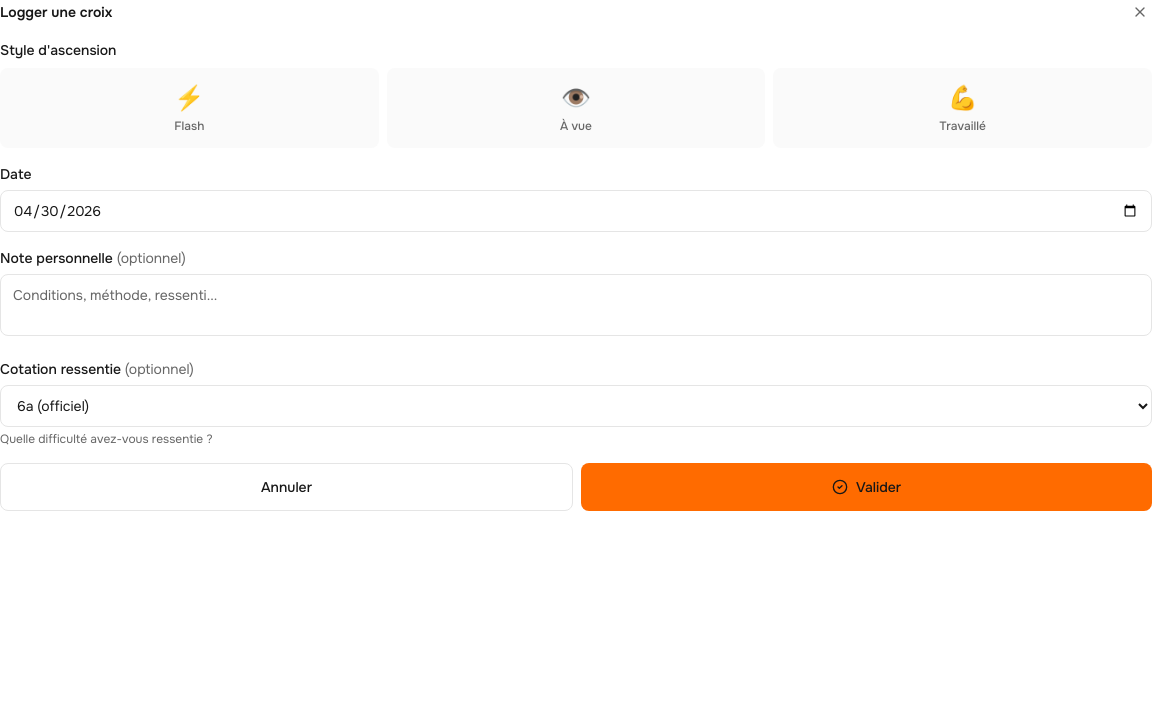
Scenario: TickForm › eco gate (Story 14e.1) › cancelling the eco dialog leaves the form intact
This screenshot has width=1152, height=720.
Click the text "Flash" at (189, 126), box [174, 118, 204, 134]
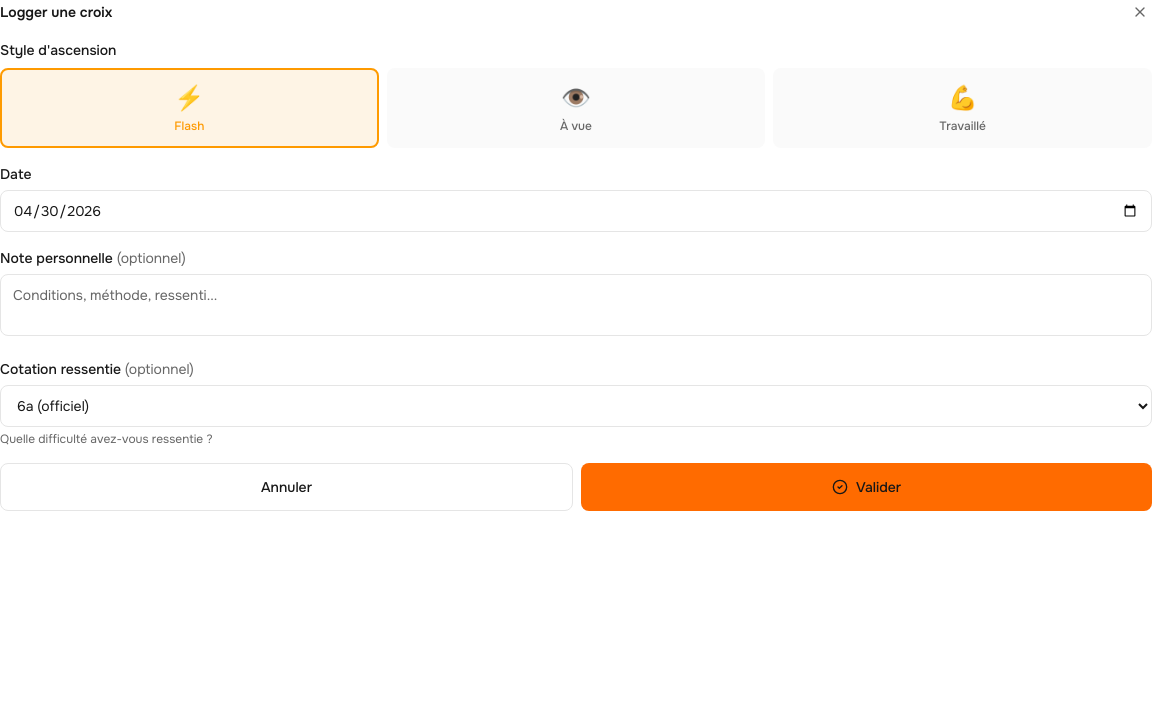
Click the button "Valider" at (866, 487), box [581, 463, 1151, 511]
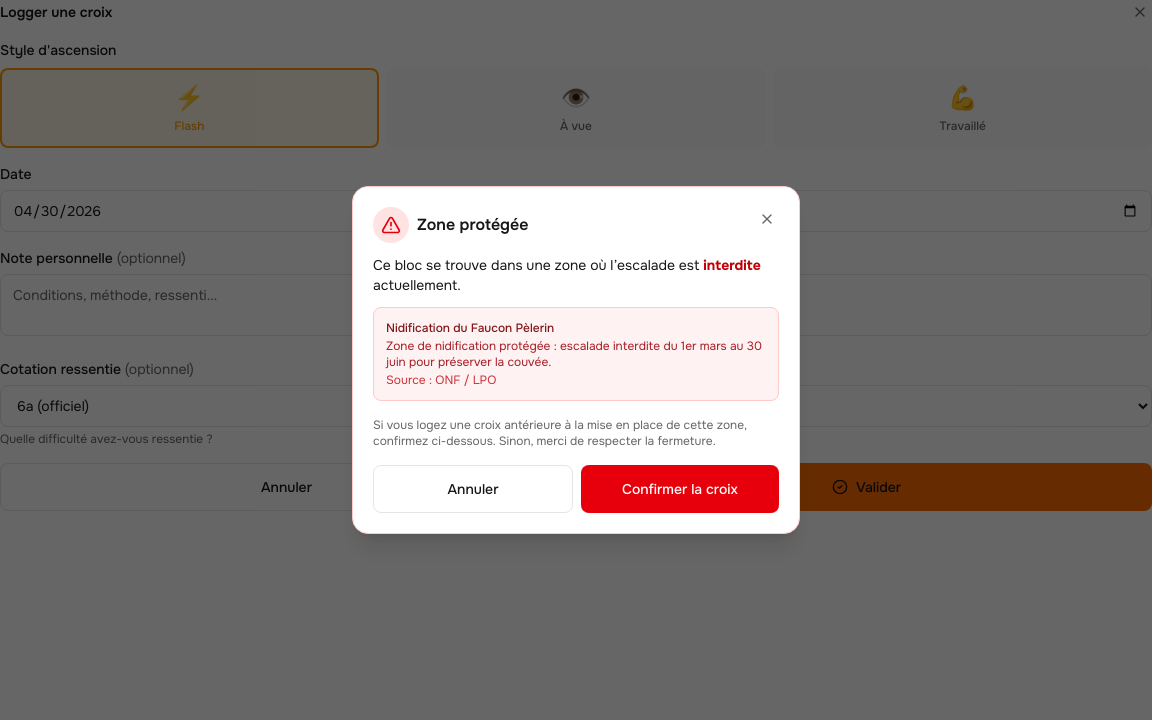
Expected: the dialog with test id "eco-warning-dialog" is shown
Click the button with test id "eco-warning-cancel" at (473, 489), box [373, 465, 573, 513]
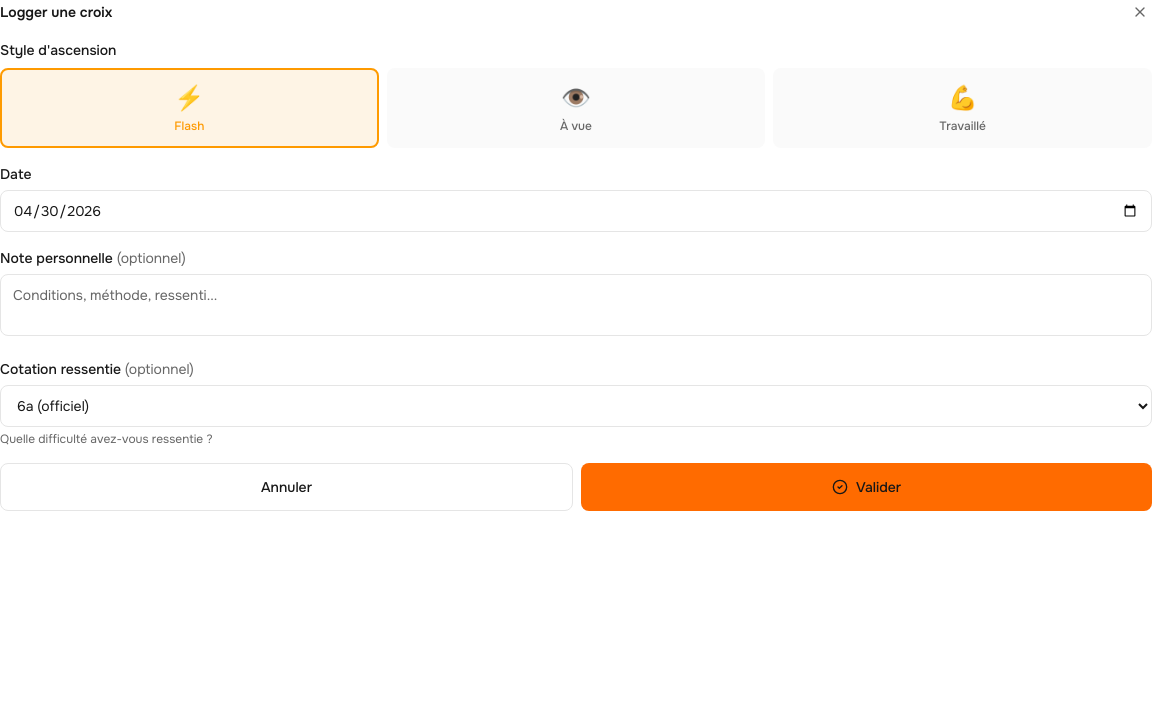
Expected: the dialog with test id "eco-warning-dialog" is gone
